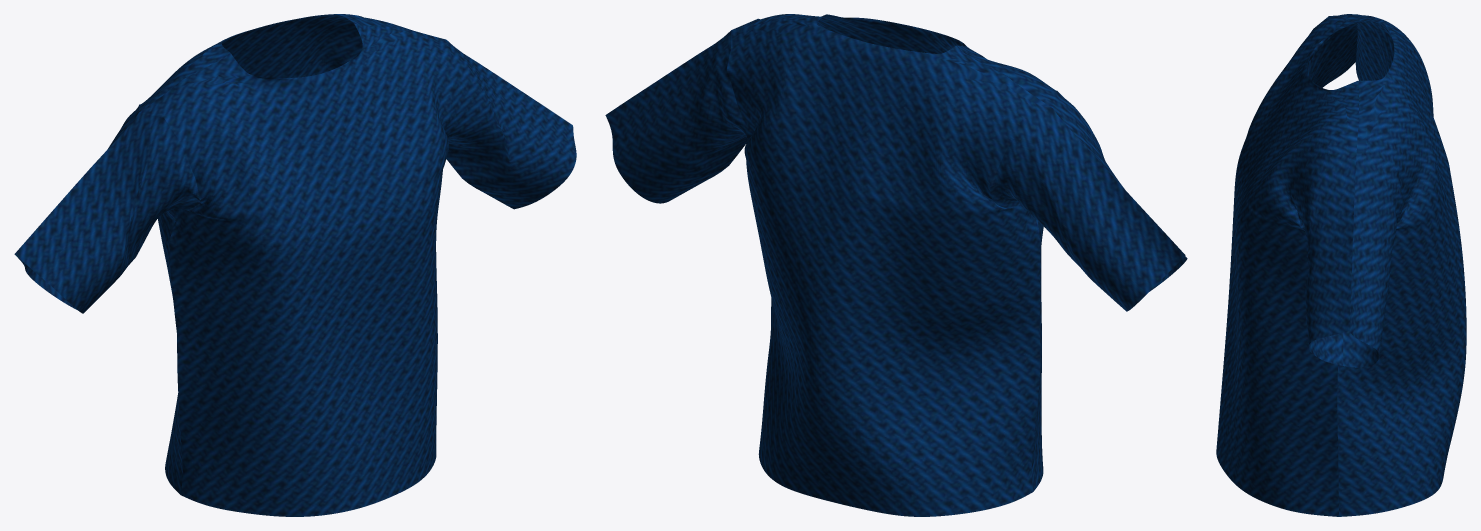
Rendered from MagliettaSenzaNiente.fbx.
3 renders of one model, left to right at view 1: azimuth 30°, elevation 25°; view 2: azimuth 150°, elevation 25°; view 3: azimuth 270°, elevation 25°, orthographic. The views are drawn at different scales.
Visible parts, largest first — view 1: T-Shirt; view 2: T-Shirt; view 3: T-Shirt.
Boxes of the visible parts, <box> form: T-Shirt: <box>14,14,576,516</box>; T-Shirt: <box>605,14,1187,516</box>; T-Shirt: <box>1216,14,1466,516</box>.
Bounding box in the file's own units: 760 × 550 × 304.
